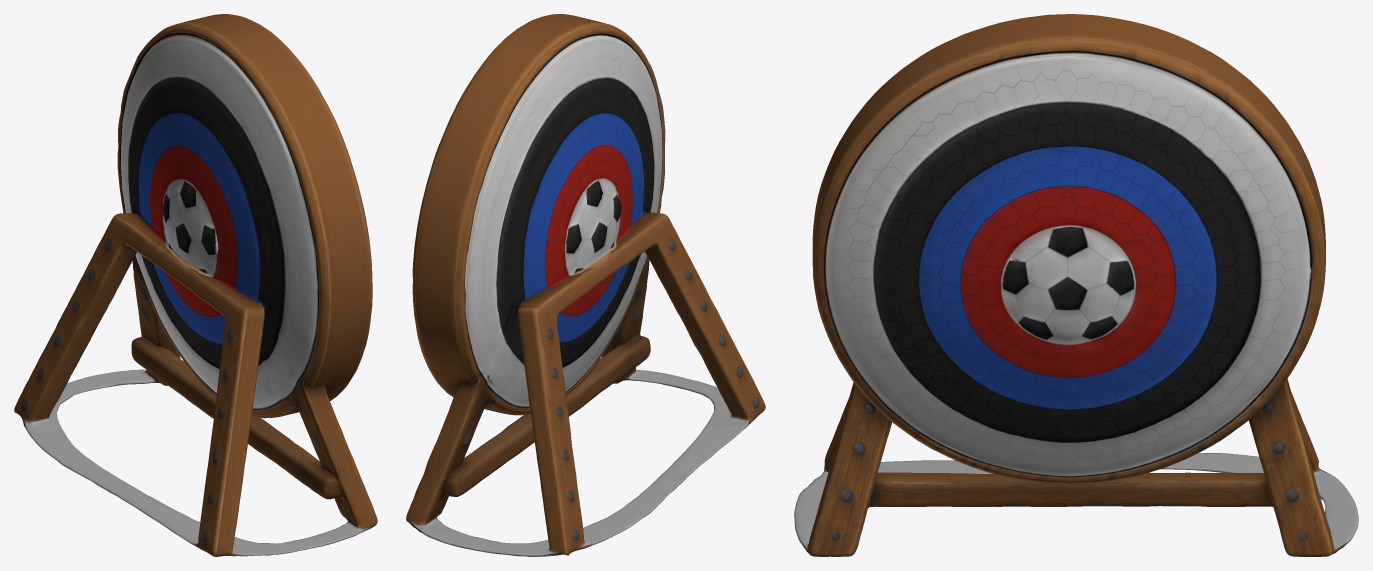
The model's file is target.fbx.
The picture shows the model from 3 angles, left to right: view 1: azimuth 30°, elevation 25°; view 2: azimuth 150°, elevation 25°; view 3: azimuth 270°, elevation 25°; orthographic projection. The views are drawn at different scales.
Parts seen in each view (by area): view 1: tripo_node_bb5945eb; view 2: tripo_node_bb5945eb; view 3: tripo_node_bb5945eb.
Boxes of the visible parts, x1,y1,x2,y2 form: tripo_node_bb5945eb: (14,14,377,556); tripo_node_bb5945eb: (406,14,765,556); tripo_node_bb5945eb: (794,14,1358,556).
Bounding box in the file's own units: 52.14 × 99.95 × 98.7.
1 material, 1 textured.
